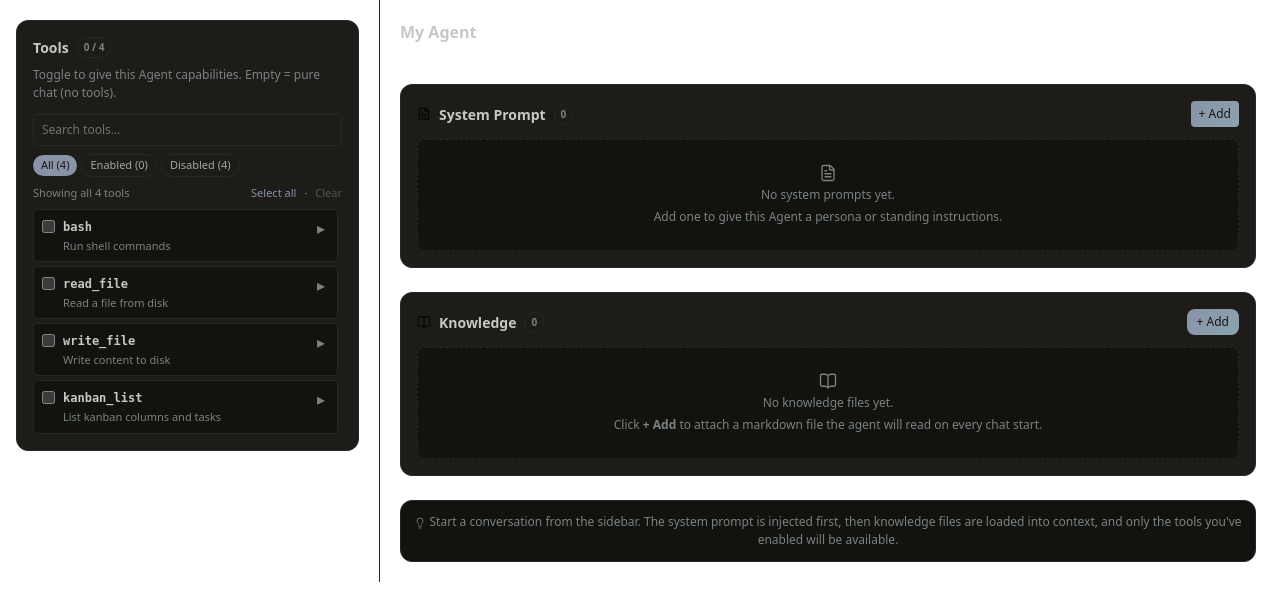
Scenario: AgentView › search filter › shows the empty-search state when no tools match
This screenshot has width=1273, height=599.
Type "zzzzz" into the field with test id "agent-tools-search" at (188, 130), box [33,114,342,146]
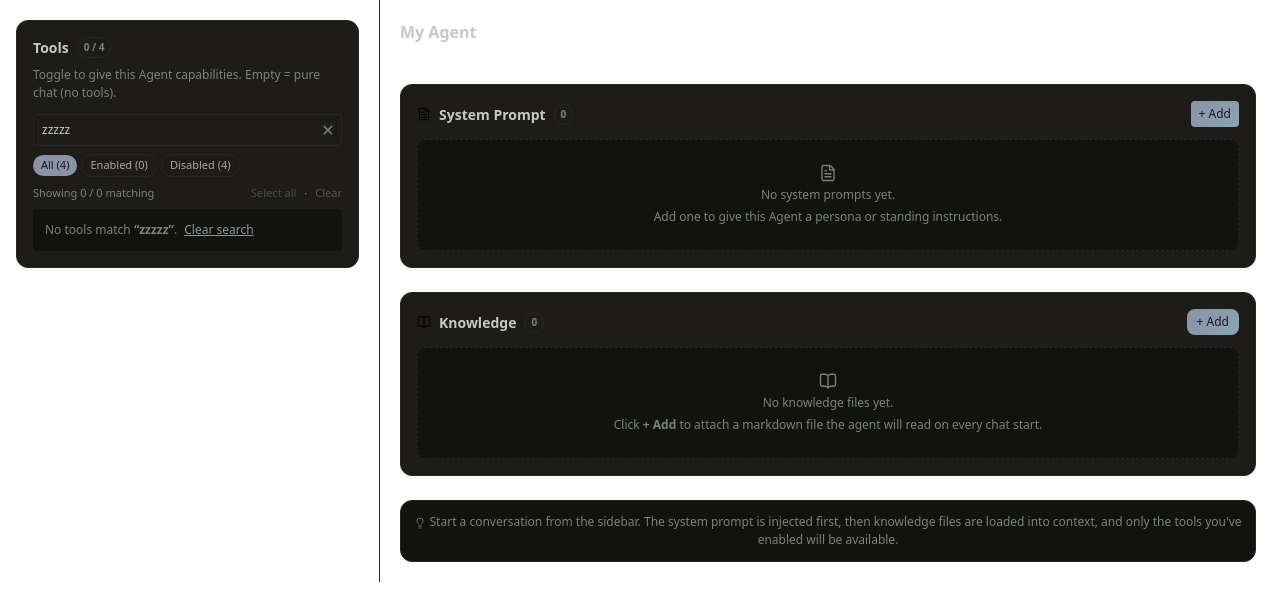
Expected: the element with test id "agent-tools-empty-search" is shown, [33,209,342,251]
Expected: no list items with test id "agent-tool-item" are shown
